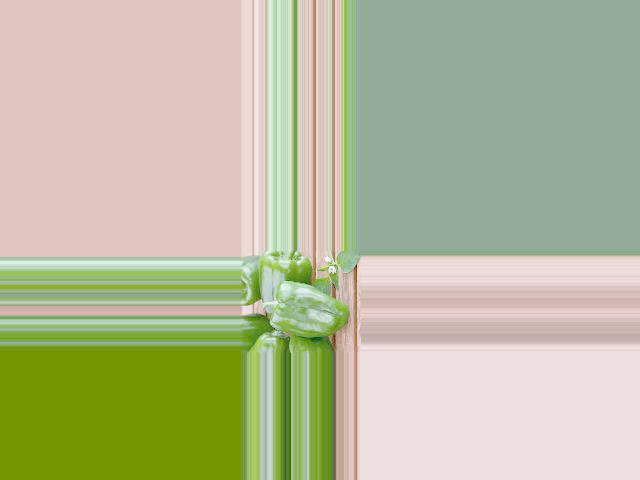bell_pepper: (245, 328, 282, 354)
